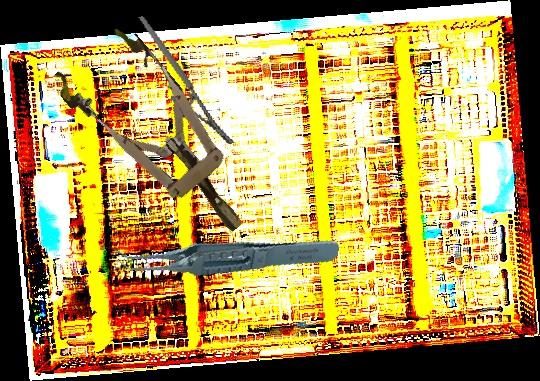Needle Holder: (138, 1, 235, 159)
Speculum: (47, 17, 274, 261)
Tissue Forceps: (108, 198, 341, 308)
